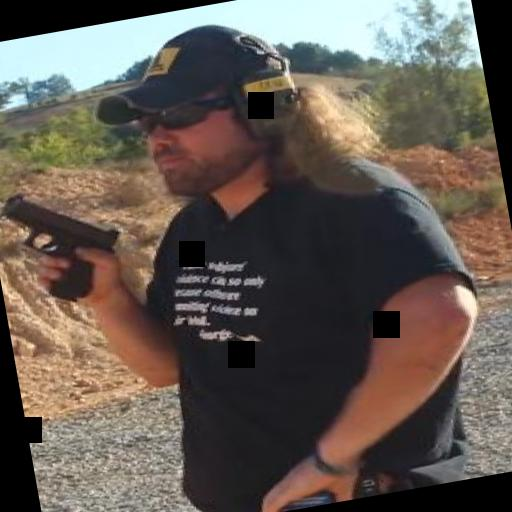Handgun: (0, 174, 128, 309)
